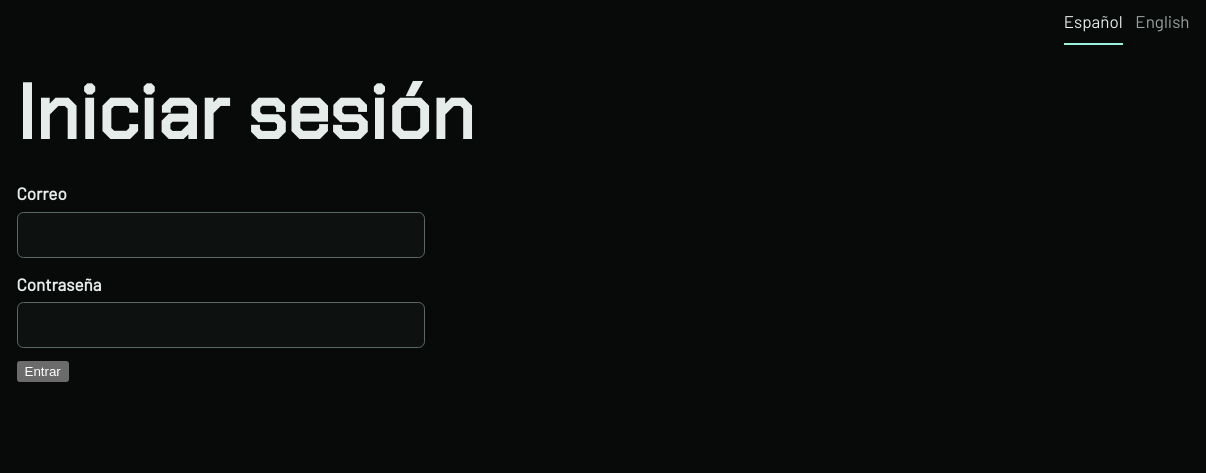
admin panel /admin › if the login responds 401, shows the message and stays on the login
The width and height of the screenshot is (1206, 473).
Type "admin@example.com" into the field labelled "Correo" at (220, 235), box [16, 212, 424, 258]
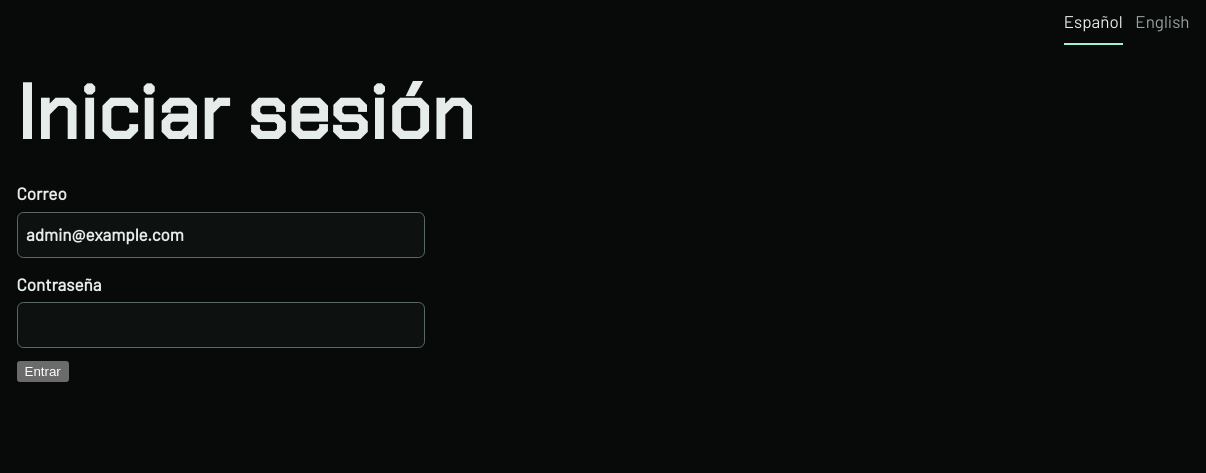
Type "una-clave-larga" into the password field labelled "Contraseña" at (220, 325), box [16, 302, 424, 348]
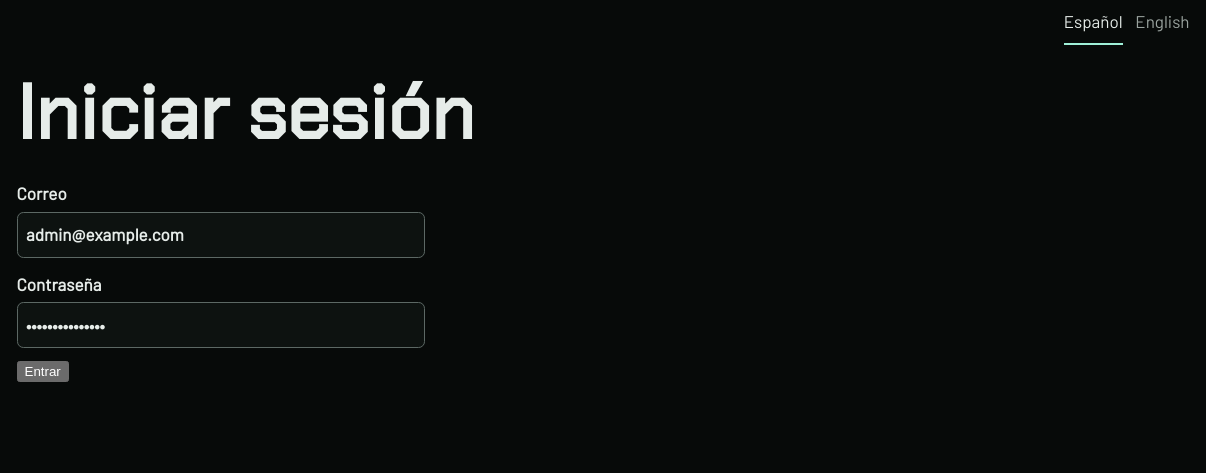
Click the button "Entrar" at (43, 372), box [16, 361, 69, 382]
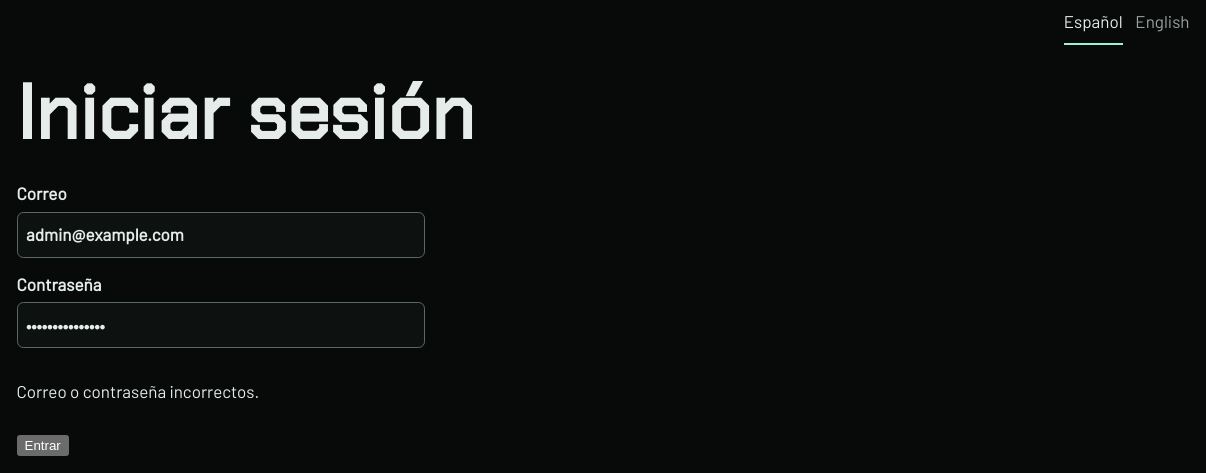
Check: the heading "Iniciar sesión" is shown, box [16, 63, 474, 163]
Check: the message reads "Correo o contraseña incorrectos.", box [16, 381, 259, 401]
